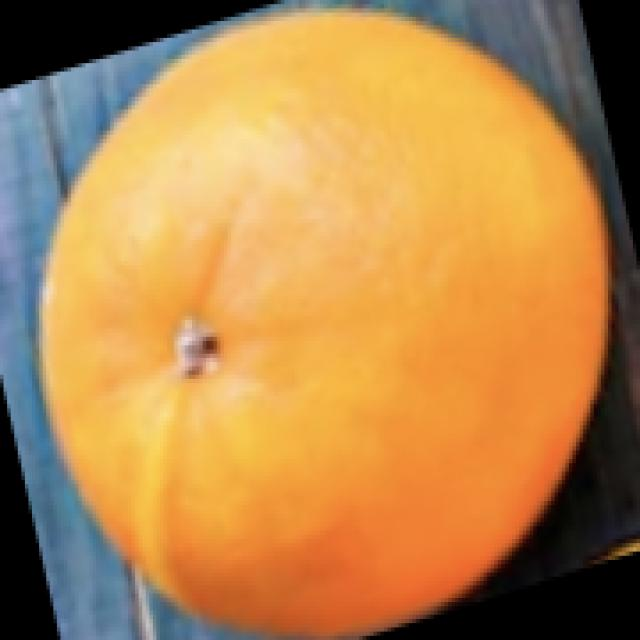matang: (49, 19, 604, 632)
